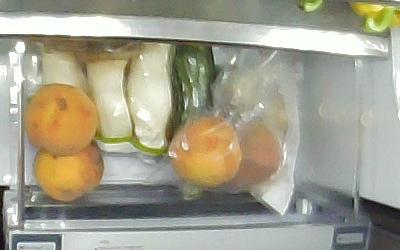peach: (25, 84, 97, 151), (33, 140, 105, 202)
peach_vinyl: (168, 116, 241, 186), (227, 123, 282, 187)
